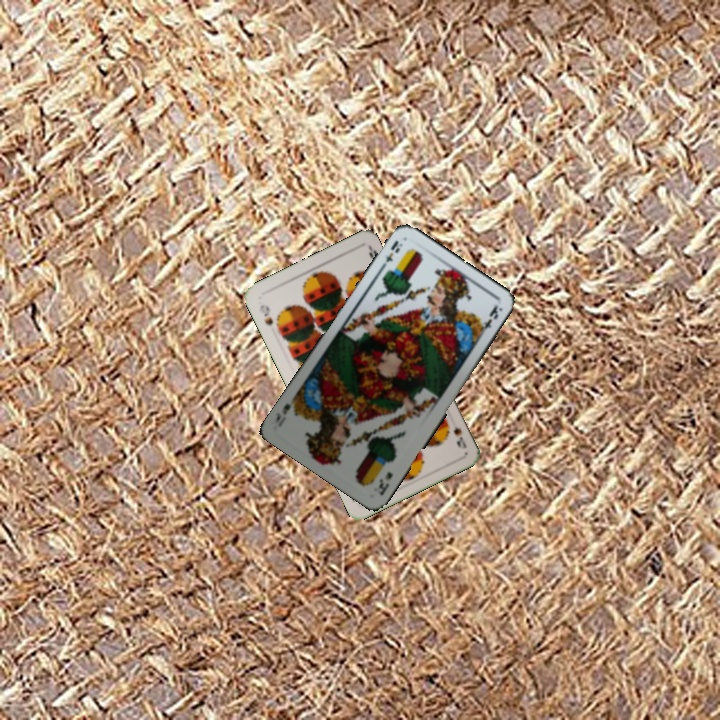EK: (377, 236, 405, 272), (375, 468, 395, 498)
S9: (255, 300, 275, 328), (450, 422, 469, 451)
